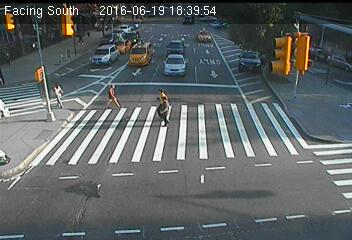neg: (218, 121, 246, 159), (307, 66, 331, 98), (140, 12, 163, 44), (277, 28, 299, 57), (57, 134, 79, 163), (53, 176, 75, 205), (310, 165, 332, 194), (283, 132, 304, 160), (18, 125, 38, 153), (232, 32, 252, 58), (99, 146, 118, 172), (10, 80, 29, 105), (28, 12, 46, 36), (184, 45, 197, 62)
pos: (146, 85, 176, 124), (46, 77, 71, 110), (101, 79, 124, 109), (75, 29, 86, 44)
